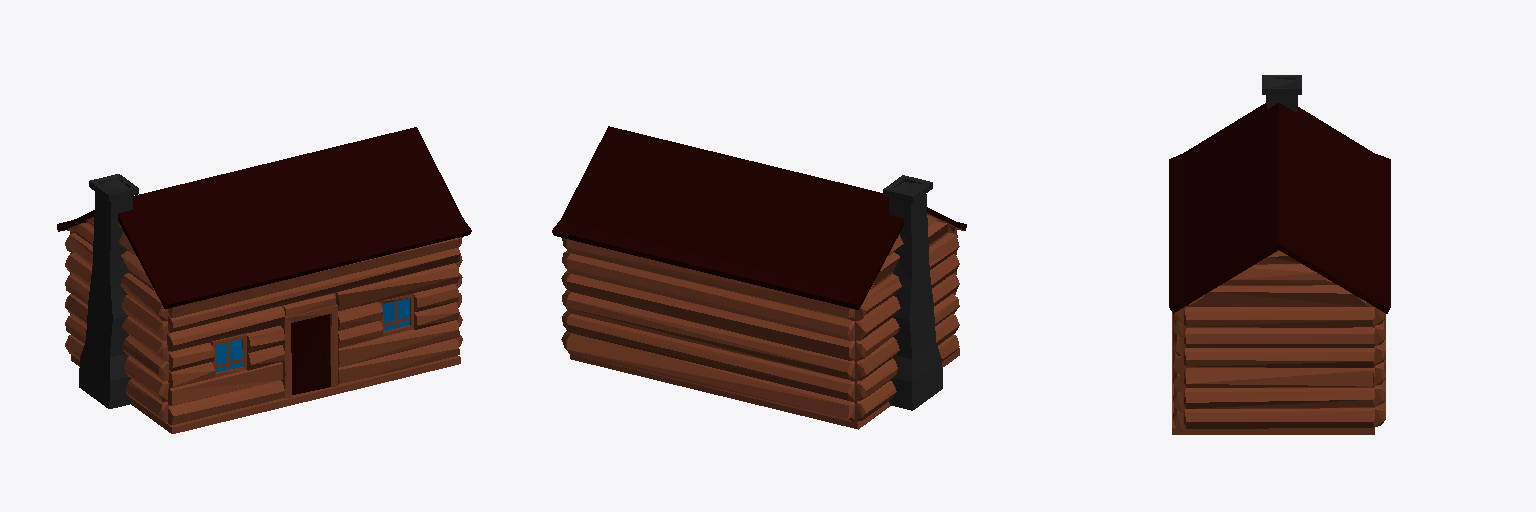
The model's file is spawningcabin3.obj.
3 views of the same model, side by side, from view 1: azimuth 30°, elevation 25°; view 2: azimuth 150°, elevation 25°; view 3: azimuth 270°, elevation 25° (orthographic).
Visible parts, largest first — view 1: Cube_Cube.001; view 2: Cube_Cube.001; view 3: Cube_Cube.001.
Boxes of the visible parts, x1=… form: Cube_Cube.001: x1=57, y1=127, x2=471, y2=433; Cube_Cube.001: x1=552, y1=126, x2=966, y2=429; Cube_Cube.001: x1=1169, y1=75, x2=1390, y2=434.
Bounding box in the file's own units: 11.39 × 7.11 × 6.78.